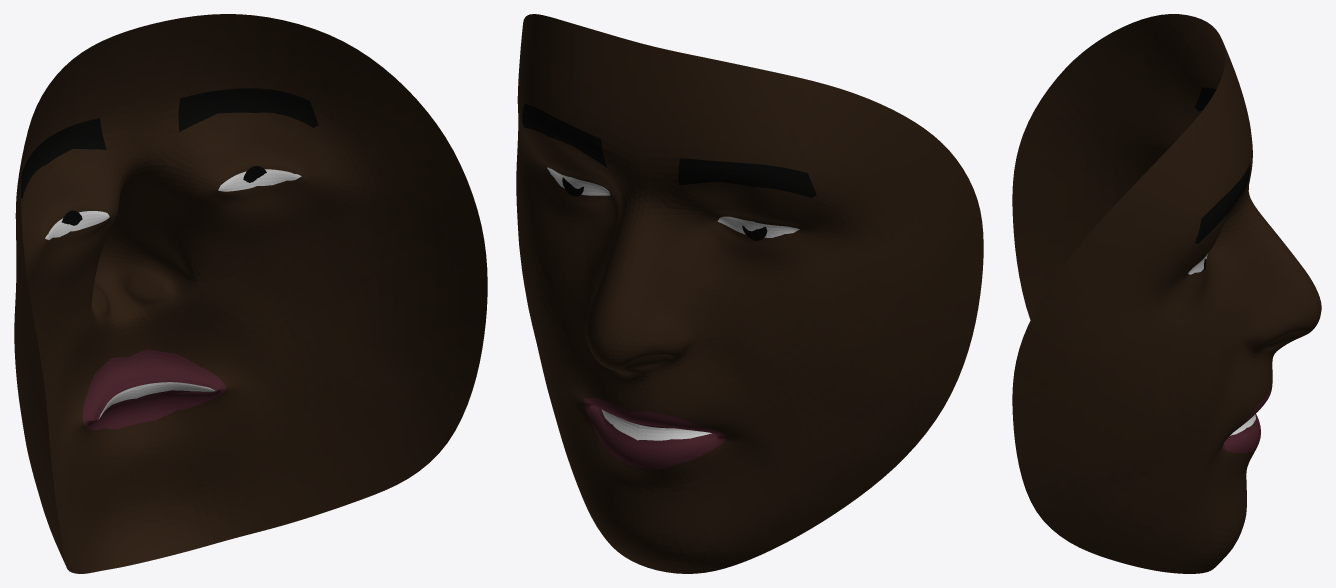
3 views of the same model, side by side, from view 1: azimuth 30°, elevation 25°; view 2: azimuth 150°, elevation 25°; view 3: azimuth 270°, elevation 25° (orthographic). The views are drawn at different scales.
Visible parts, largest first — view 1: face_mesh_subdivided; view 2: face_mesh_subdivided; view 3: face_mesh_subdivided.
Boxes of the visible parts, x1=… form: face_mesh_subdivided: x1=14, y1=14, x2=487, y2=573; face_mesh_subdivided: x1=516, y1=14, x2=983, y2=573; face_mesh_subdivided: x1=1012, y1=14, x2=1321, y2=573.
Size of the model in its own units: 15.41 by 17.62 by 9.92.
